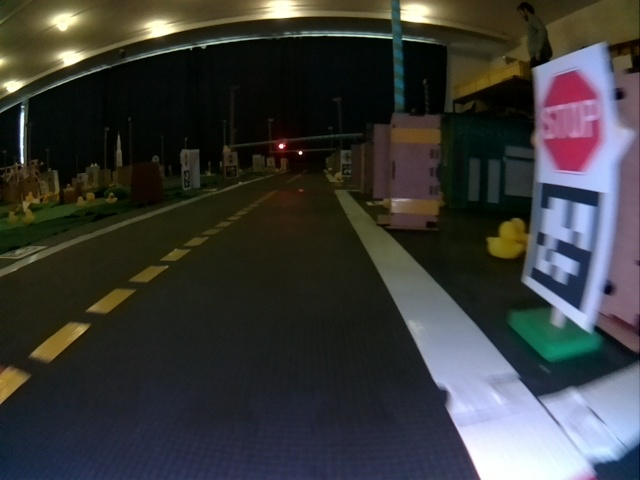Duckie: (486, 222, 518, 258), (22, 210, 36, 224), (106, 194, 118, 203), (77, 197, 87, 206), (6, 212, 15, 222), (25, 192, 34, 202), (88, 193, 95, 202)
QR code: (522, 182, 610, 321), (182, 170, 191, 188), (226, 166, 238, 177), (342, 164, 352, 176)
Signal sign: (181, 150, 190, 169), (226, 153, 237, 164)
Stop sign: (537, 60, 609, 172)
Traffic light: (277, 141, 286, 149)
